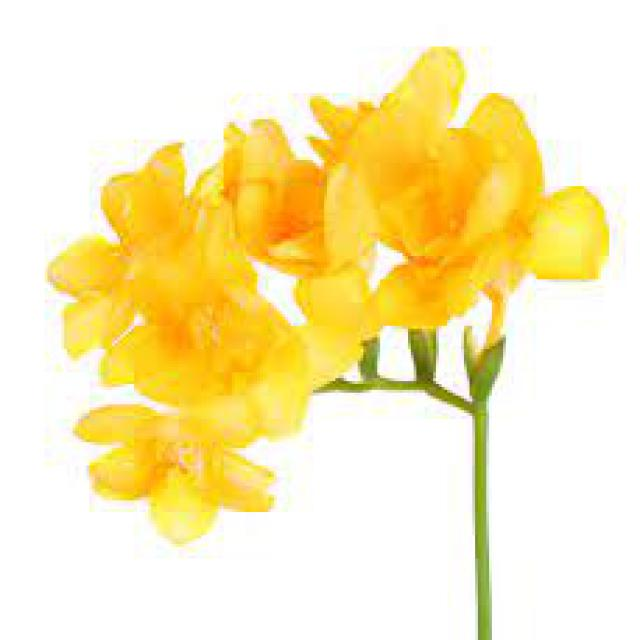freesia: (41, 34, 625, 555)
